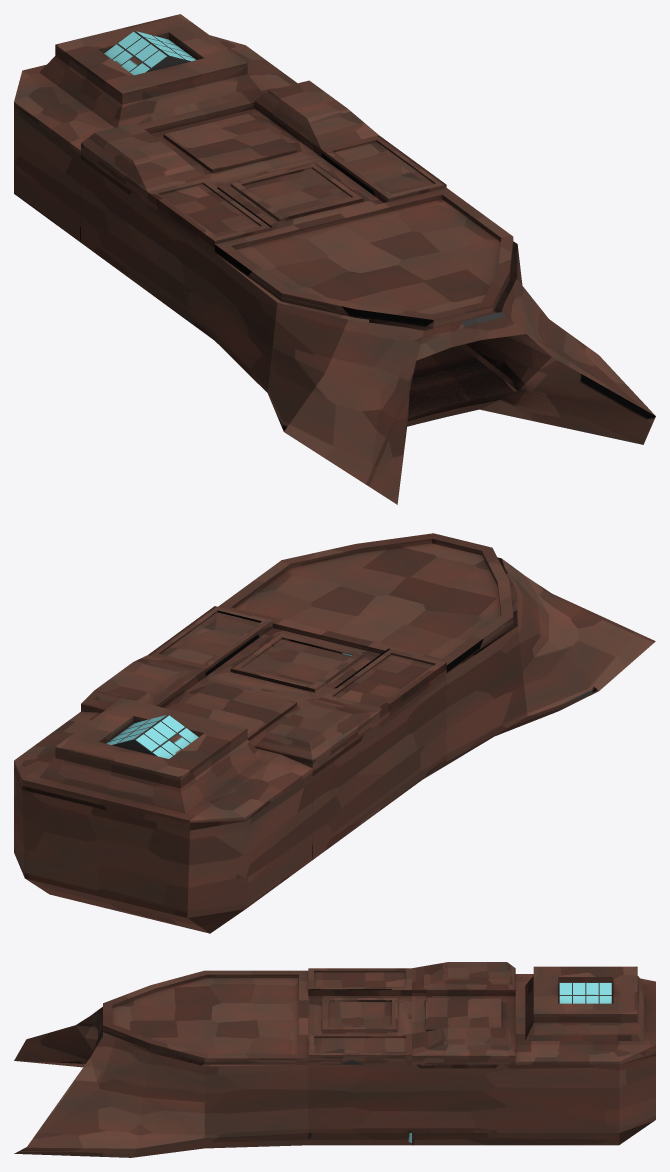
File: THEBOATVa2r.fbx
3 views of the same model, one above another, from view 1: azimuth 30°, elevation 25°; view 2: azimuth 150°, elevation 25°; view 3: azimuth 270°, elevation 25° (orthographic). The views are drawn at different scales.
Visible parts, largest first — view 1: segmentTop; view 2: segmentTop; view 3: segmentTop.
Boxes of the visible parts, x1,y1,x2,y2 form: segmentTop: (14,14,655,504); segmentTop: (14,533,655,933); segmentTop: (14,962,655,1157).
Bounding box in the file's own units: 544 × 282 × 1239.
1 material, 1 textured.
